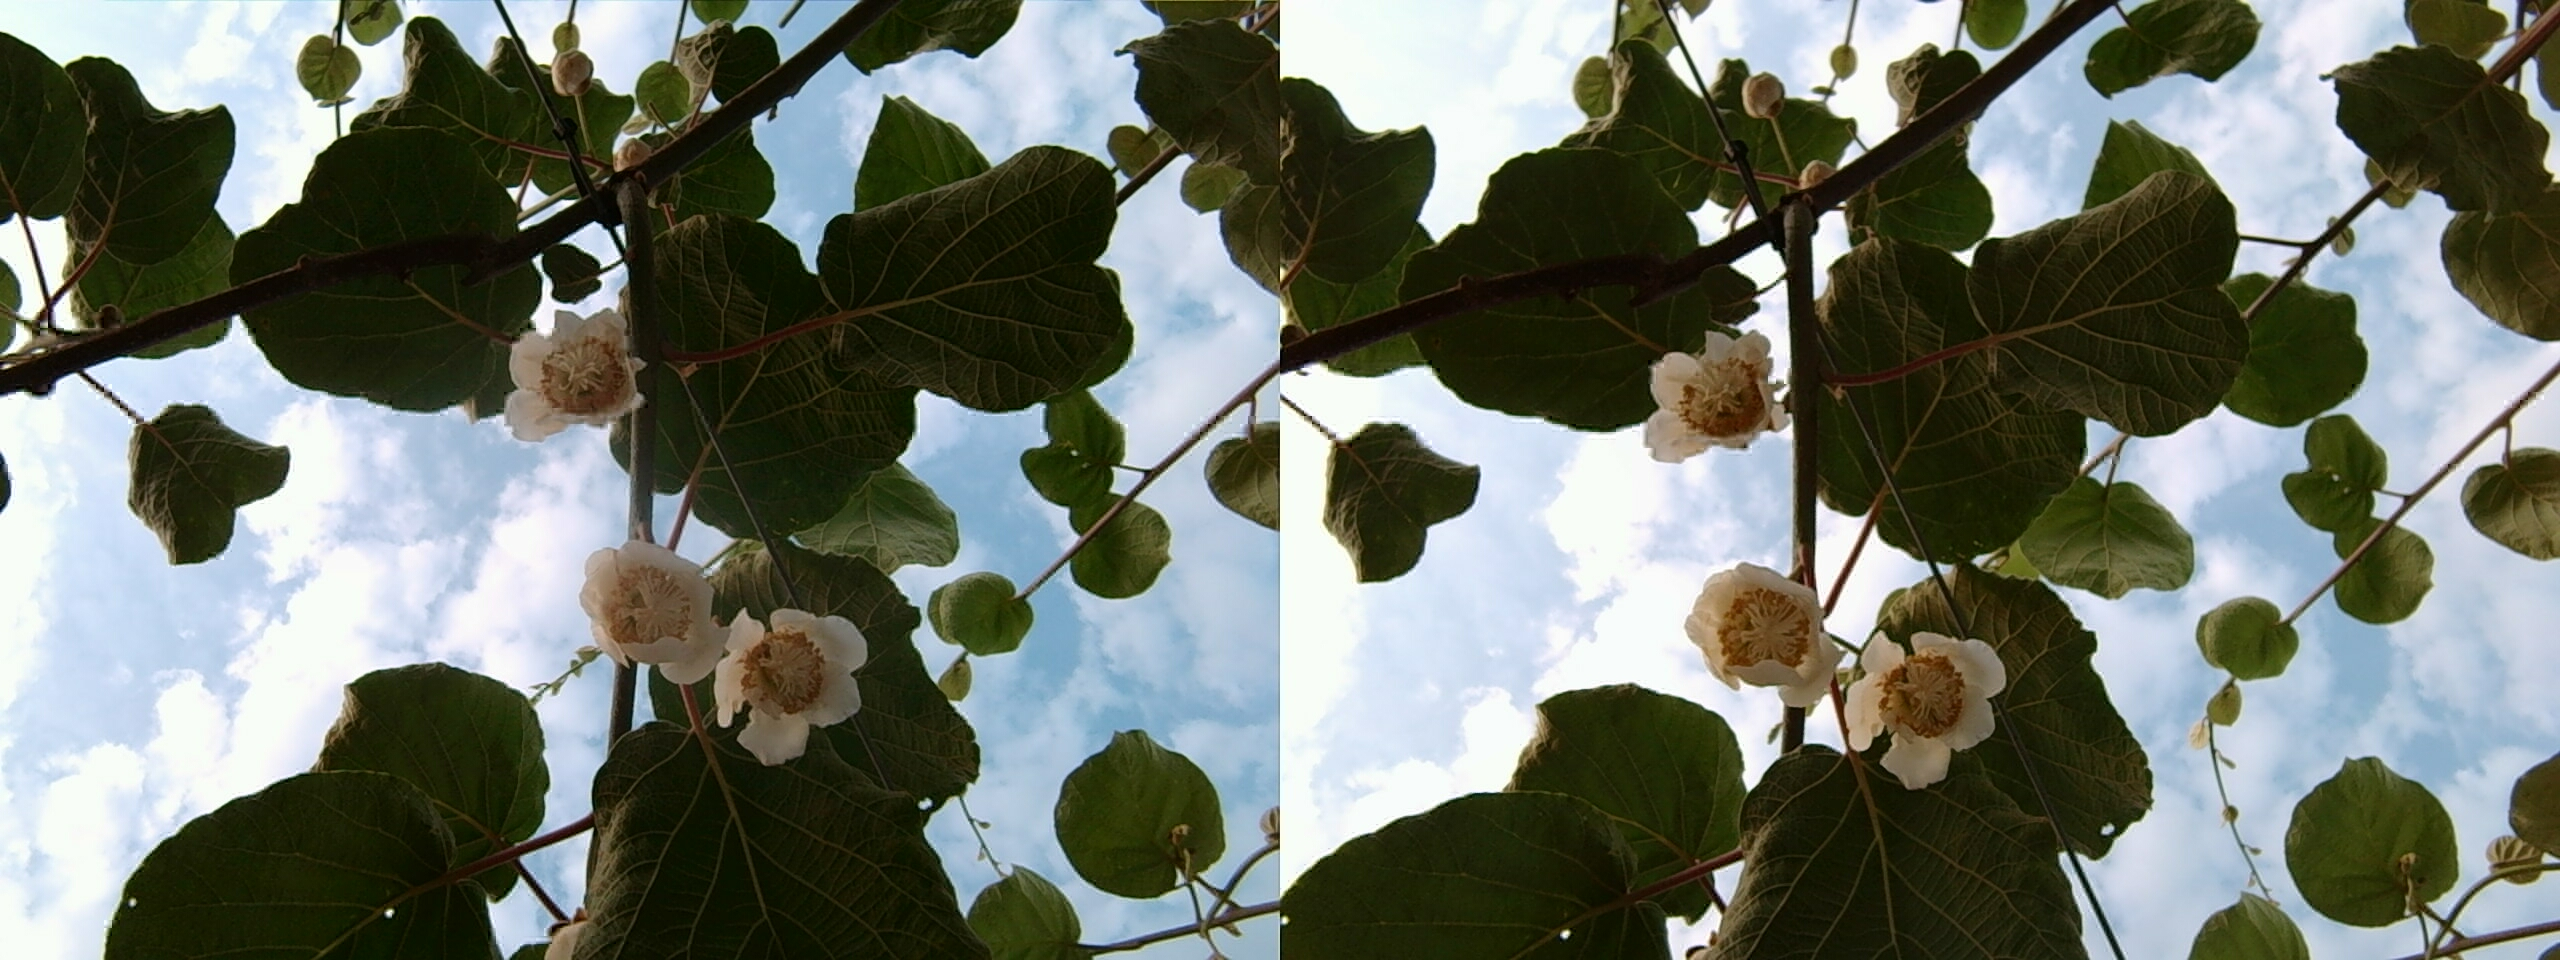flower: (1832, 629, 2005, 780), (699, 604, 869, 758), (1677, 557, 1842, 700), (1641, 323, 1786, 460), (578, 539, 723, 669), (504, 302, 640, 436)
